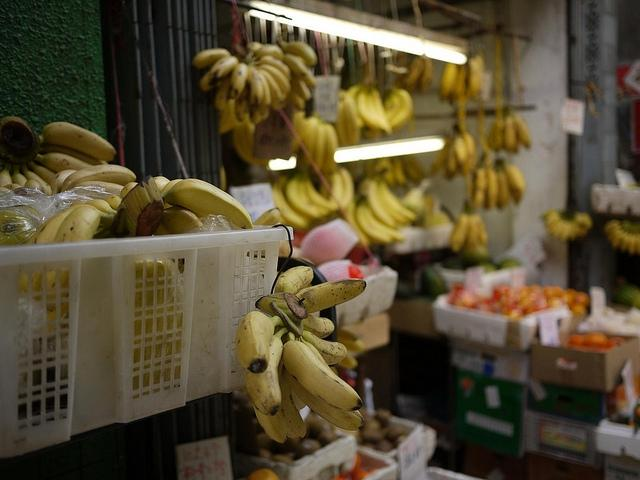banana: (40, 206, 114, 312), (281, 332, 363, 410), (17, 204, 82, 302), (282, 363, 365, 430), (160, 178, 254, 229), (246, 328, 288, 417), (235, 310, 284, 374), (39, 122, 117, 162), (117, 174, 163, 237), (296, 278, 366, 314), (271, 174, 312, 230), (60, 164, 136, 192), (285, 174, 331, 218), (356, 196, 398, 244), (378, 174, 418, 222), (280, 370, 306, 440), (366, 172, 398, 228), (364, 202, 404, 243), (302, 330, 347, 366), (38, 144, 109, 166), (296, 112, 320, 173), (250, 64, 285, 103), (253, 404, 287, 443), (356, 81, 382, 130), (34, 152, 94, 173), (274, 266, 314, 296), (162, 206, 202, 235), (370, 85, 392, 136), (390, 86, 414, 132), (402, 178, 431, 216), (278, 40, 318, 66), (254, 64, 290, 92), (21, 164, 52, 196), (252, 56, 292, 80), (459, 123, 477, 176), (509, 106, 531, 148), (467, 167, 488, 210), (209, 56, 239, 86), (505, 163, 526, 205), (337, 165, 354, 215), (323, 123, 339, 175), (192, 48, 232, 68), (450, 64, 470, 104), (228, 63, 248, 102), (27, 160, 57, 186), (438, 63, 458, 102), (302, 314, 334, 338), (494, 162, 510, 210), (344, 104, 362, 146), (451, 212, 469, 252), (314, 121, 328, 172), (417, 53, 434, 95), (462, 207, 478, 251), (344, 94, 364, 128), (402, 56, 424, 86), (292, 109, 306, 156), (248, 65, 264, 106), (335, 101, 349, 147), (74, 180, 124, 192), (282, 54, 308, 77), (502, 116, 518, 153), (486, 168, 500, 209), (401, 155, 421, 183), (468, 58, 481, 100), (235, 83, 249, 122), (84, 199, 118, 215), (328, 169, 344, 202), (257, 69, 271, 106), (238, 126, 254, 158), (253, 207, 281, 225), (292, 76, 311, 102), (381, 158, 396, 190), (392, 156, 408, 186), (386, 92, 402, 120), (474, 214, 488, 246), (486, 118, 498, 152), (368, 86, 380, 118), (494, 118, 506, 150), (455, 132, 466, 166), (612, 224, 628, 247), (446, 144, 456, 180), (12, 165, 28, 187), (547, 216, 565, 234), (545, 210, 565, 226), (247, 41, 264, 58), (319, 175, 331, 199), (499, 259, 522, 269), (621, 231, 632, 251), (560, 219, 570, 241), (426, 195, 434, 214), (570, 222, 578, 241), (605, 220, 621, 228), (635, 230, 640, 253), (300, 283, 312, 291), (338, 91, 346, 101)
